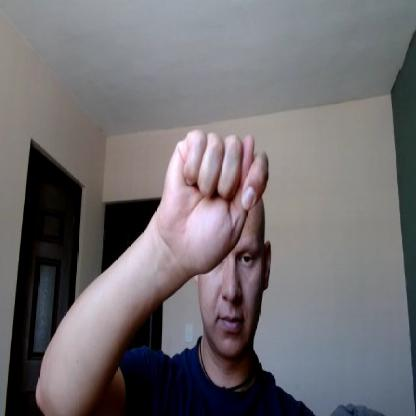T: (163, 128, 269, 270)
